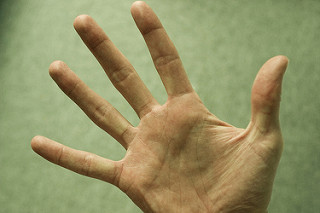palm: (129, 107, 261, 208)
